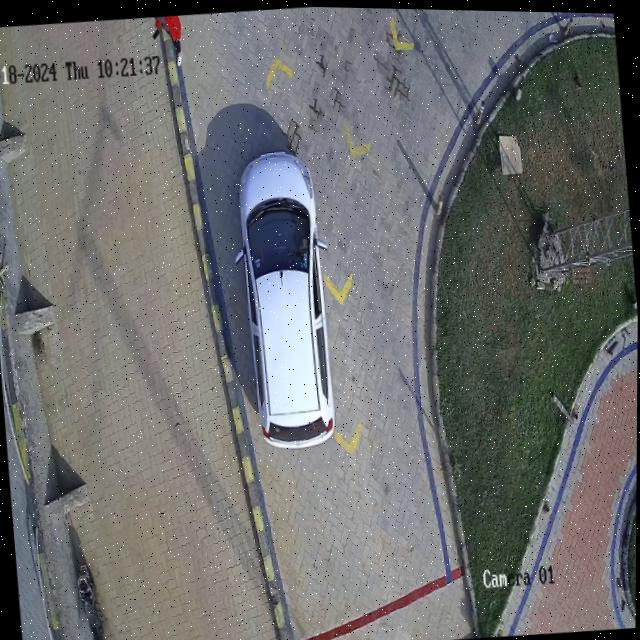car: (236, 149, 335, 447)
